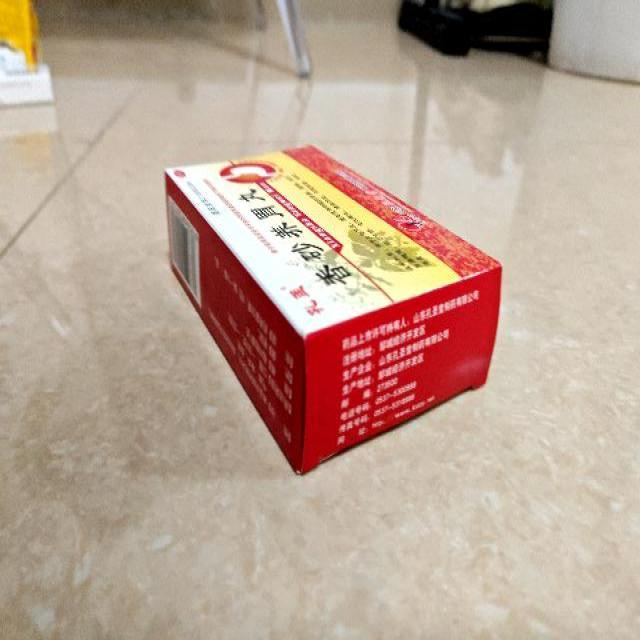box: (164, 144, 503, 474)
